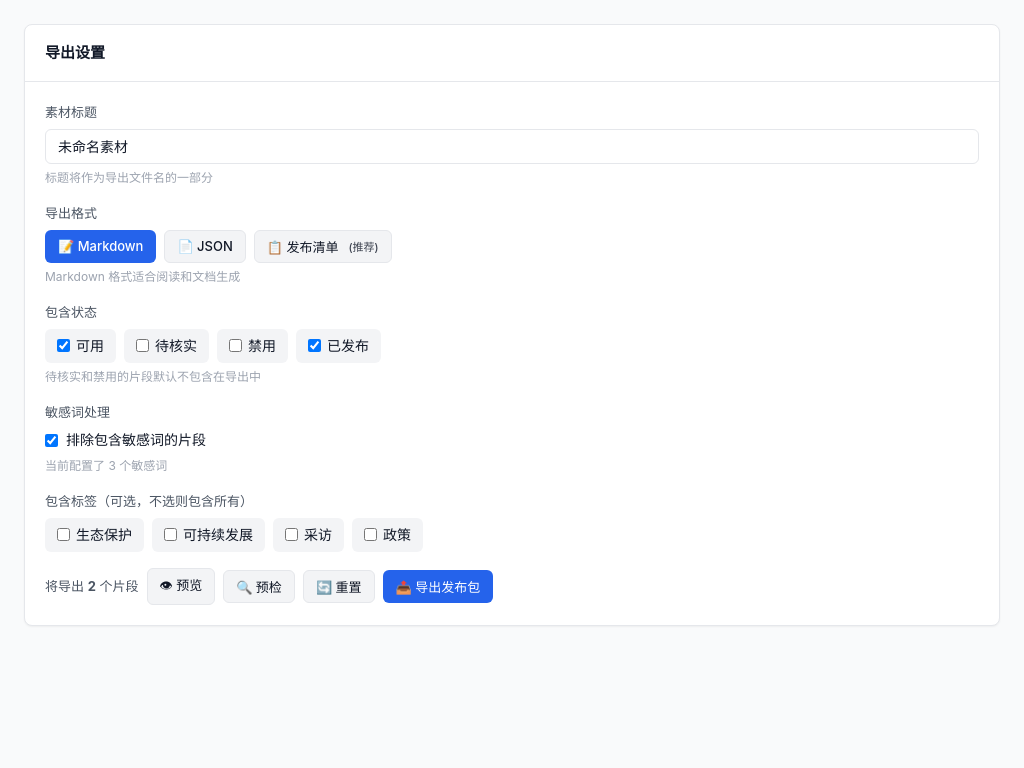
Test: ExportView 界面交互测试 › 3. 状态筛选测试 › 3.1 取消可用状态减少可导出数量
The width and height of the screenshot is (1024, 768).
Click the checkbox with test id "export-status-available" at (64, 346), box [57,340,70,352]
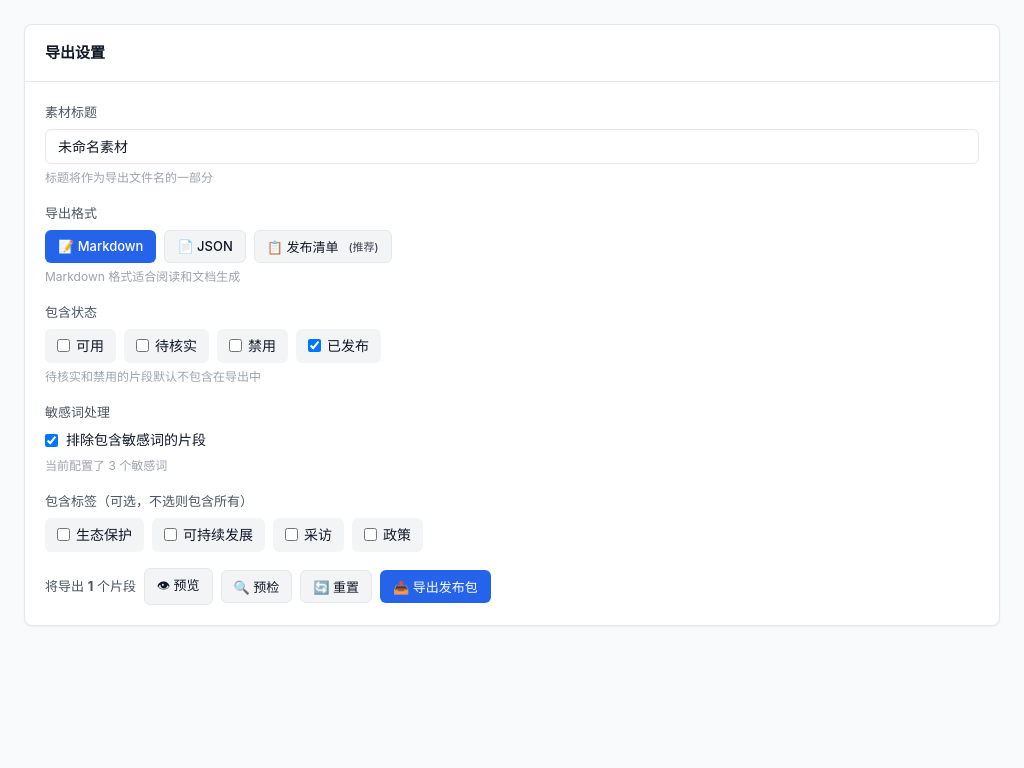
Expected: the element with test id "export-count-info" reads "将导出 1 个片段", [45,576,136,597]
